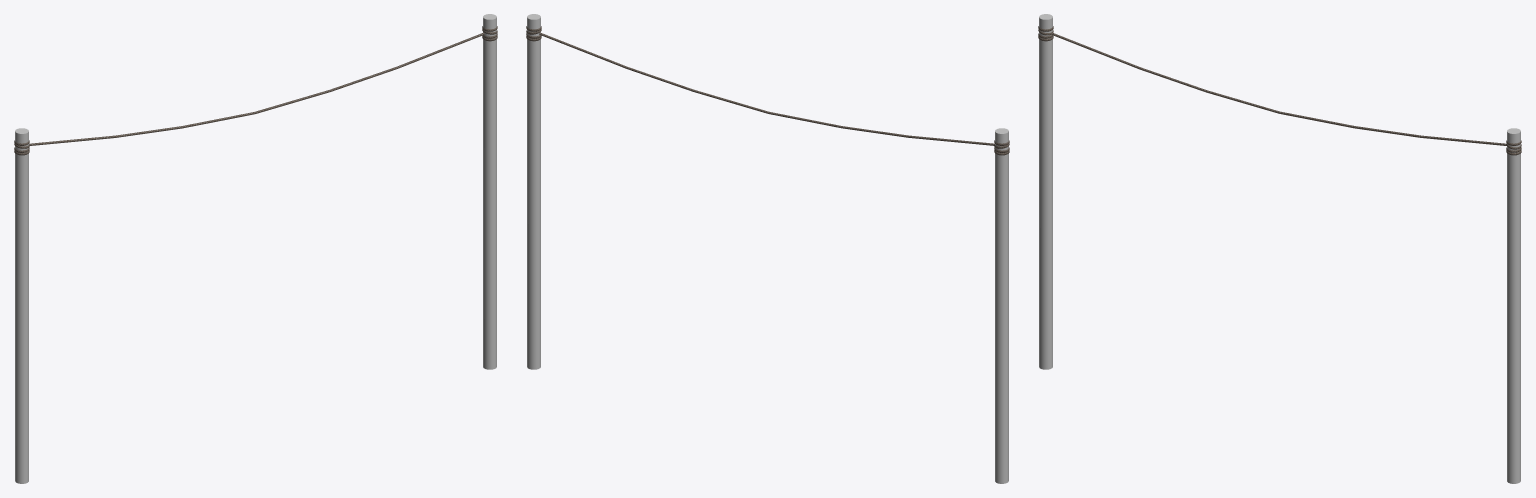
The model's file is rope.fbx.
The picture shows the model from 3 angles, left to right: view 1: azimuth 30°, elevation 25°; view 2: azimuth 150°, elevation 25°; view 3: azimuth 330°, elevation 25°; orthographic projection.
Visible parts, largest first — view 1: polySurface186; view 2: polySurface186; view 3: polySurface186.
Boxes of the visible parts, <box> form: polySurface186: <box>14,14,497,483</box>; polySurface186: <box>526,14,1009,483</box>; polySurface186: <box>1038,14,1521,483</box>.
Bounding box in the file's own units: 10.29 × 7.15 × 0.2848.
